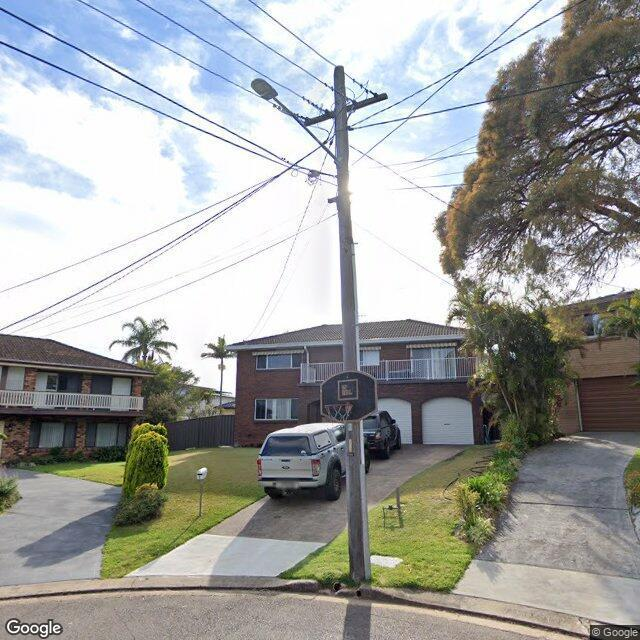crossarm: (302, 91, 388, 128)
streetlight: (252, 77, 340, 166)
timber-pole: (333, 66, 372, 582)
